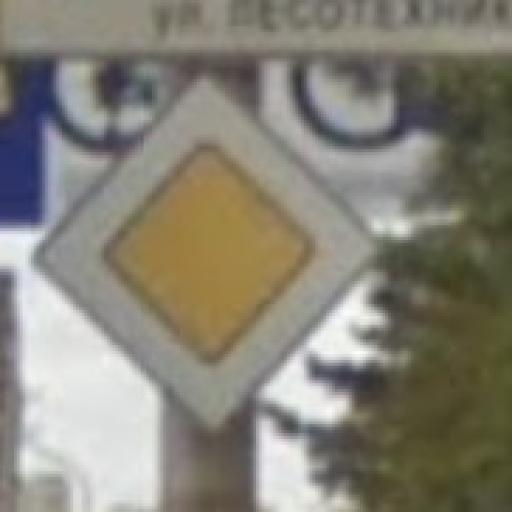traffic_sign: (32, 71, 386, 440)
